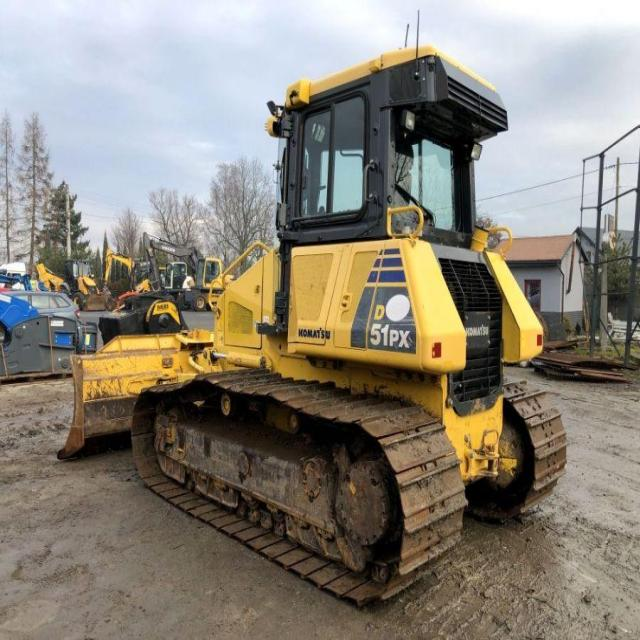buldozerpayloadergrader: (60, 43, 581, 614)
